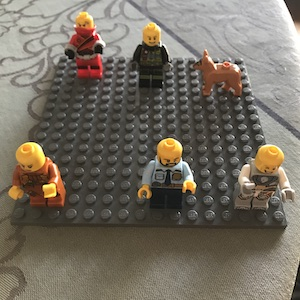Lego: (137, 137, 197, 215), (6, 139, 67, 211), (234, 146, 295, 211), (63, 11, 107, 83), (131, 22, 172, 93)
